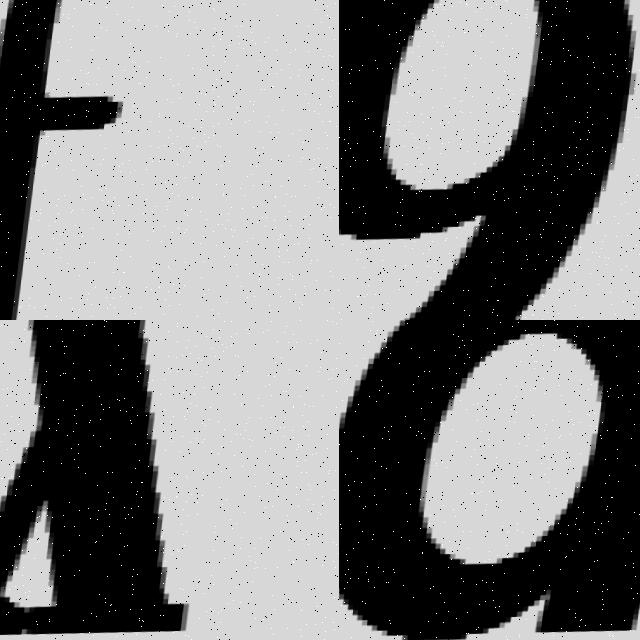9: (339, 0, 640, 320)
D: (339, 320, 640, 640)
F: (0, 0, 127, 320)
X: (0, 320, 254, 640)
